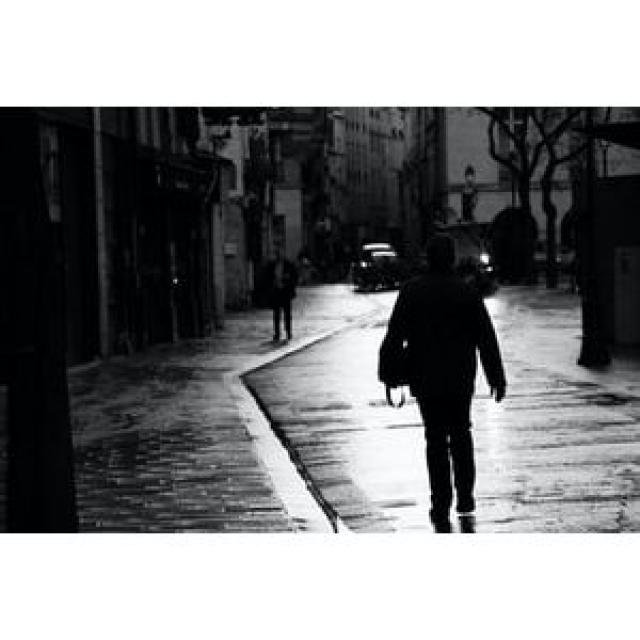nonfall: (386, 226, 515, 520), (258, 240, 312, 356)
